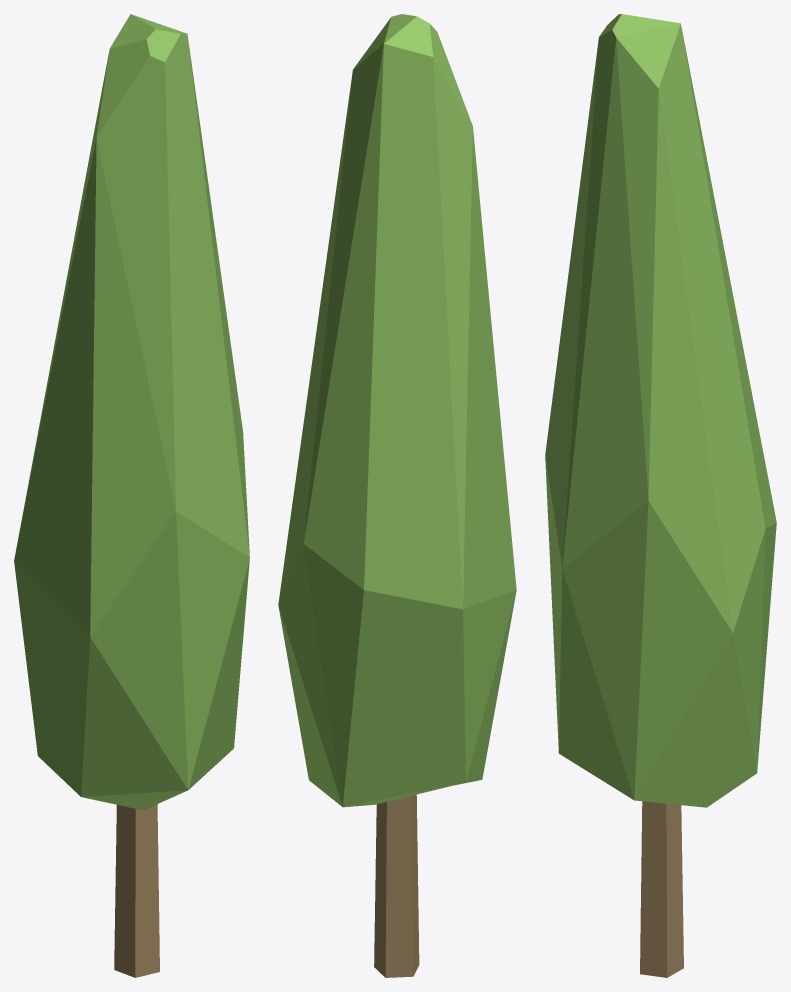
File: Thuja_Tree_m_03_LOD.fbx
The picture shows the model from 3 angles, left to right: view 1: azimuth 30°, elevation 25°; view 2: azimuth 150°, elevation 25°; view 3: azimuth 270°, elevation 25°; orthographic projection.
Visible parts, largest first — view 1: Thuja_Tree_m_03_LOD0; view 2: Thuja_Tree_m_03_LOD0; view 3: Thuja_Tree_m_03_LOD0.
Boxes of the visible parts, x1,y1,x2,y2 form: Thuja_Tree_m_03_LOD0: [14, 14, 249, 977]; Thuja_Tree_m_03_LOD0: [278, 14, 516, 977]; Thuja_Tree_m_03_LOD0: [545, 14, 776, 977].
Size of what is drawn, in the model's own units: 103 by 483 by 106.
